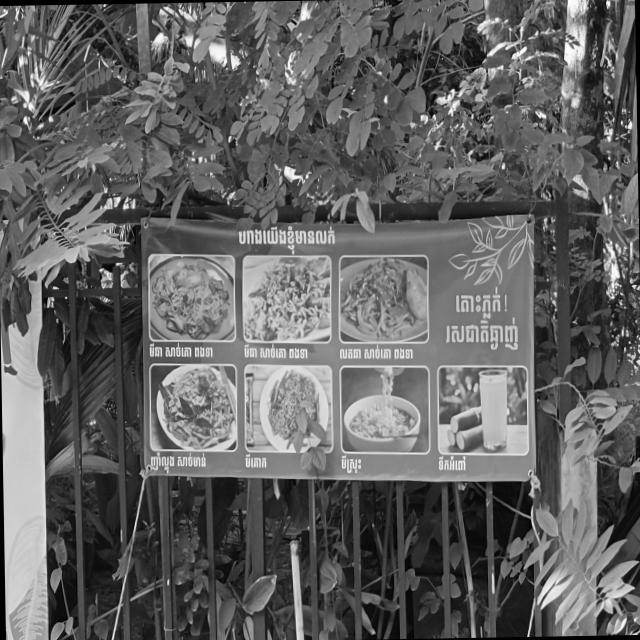1: (148, 449, 208, 476)
2: (147, 341, 216, 363), (241, 341, 310, 362), (338, 344, 416, 362)
Yolov11kh: (237, 223, 339, 256), (443, 316, 520, 353), (453, 283, 504, 318), (436, 453, 468, 472), (338, 451, 363, 475), (241, 451, 270, 470)
